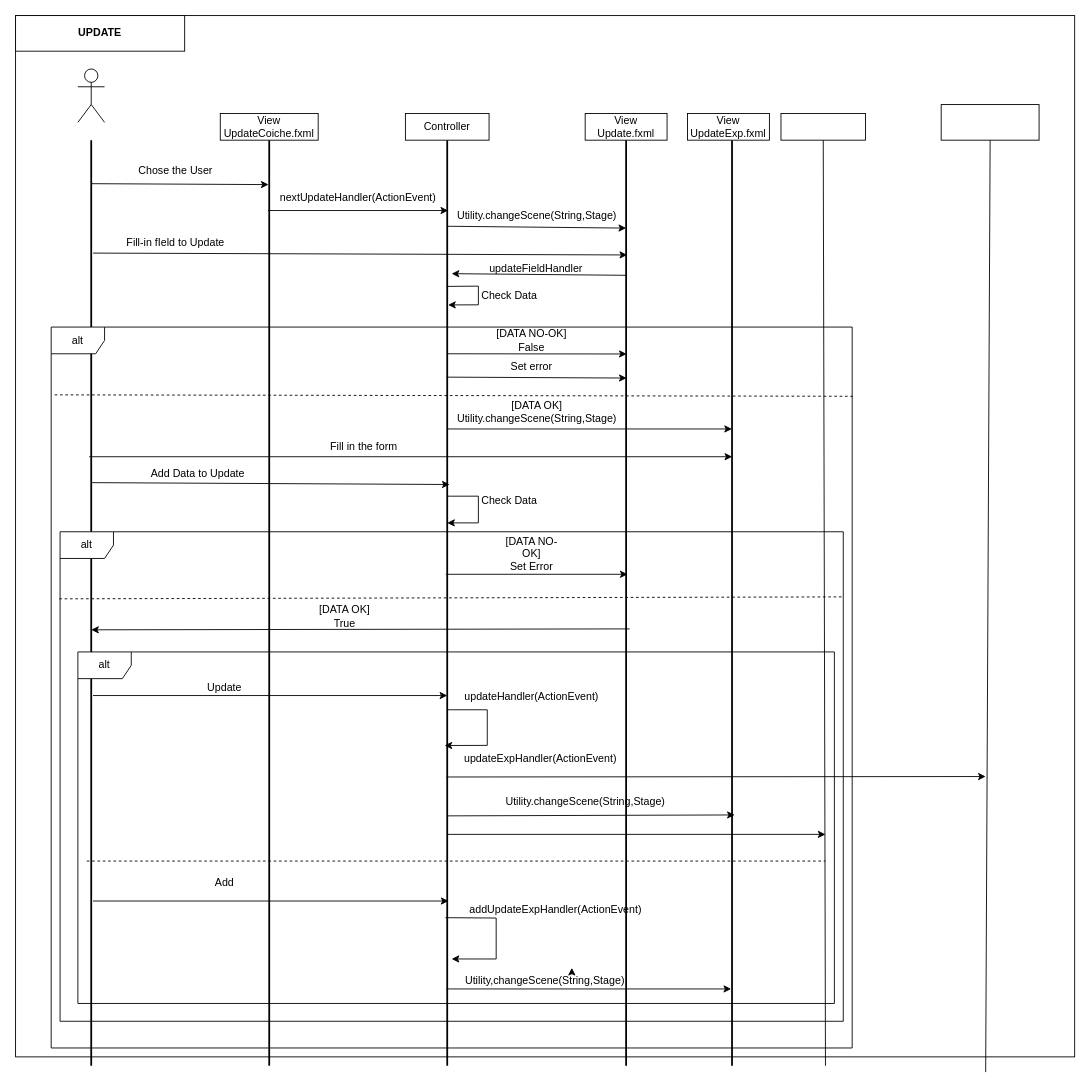
This 1090x1089 diagram has some shape labels left out. The centre of each missing label's shape, as x and y in pixels:
"DAO" goes at point 989,122.
"User" goes at point 91,95.
"View Home.fxml" goes at point 823,126.
